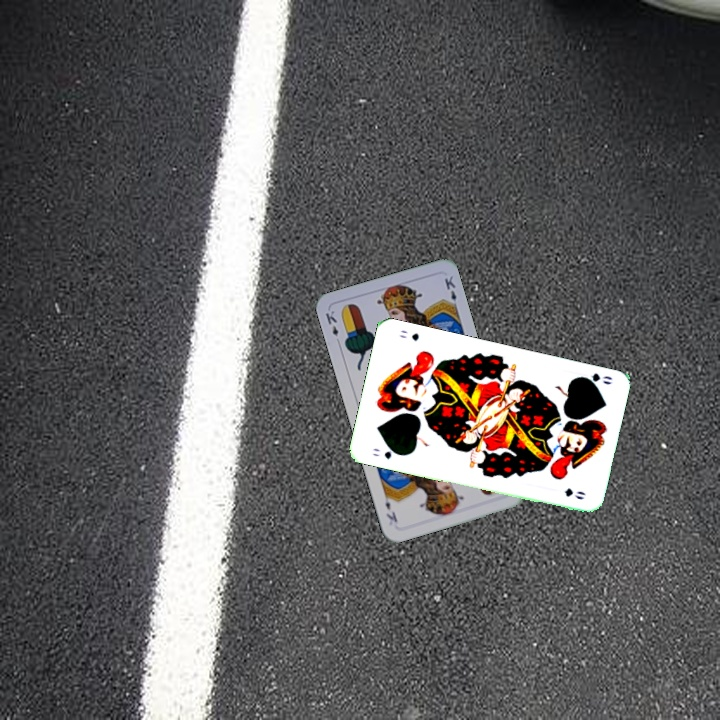EK: (321, 306, 343, 347)
GO: (574, 369, 615, 389), (369, 444, 404, 462)
